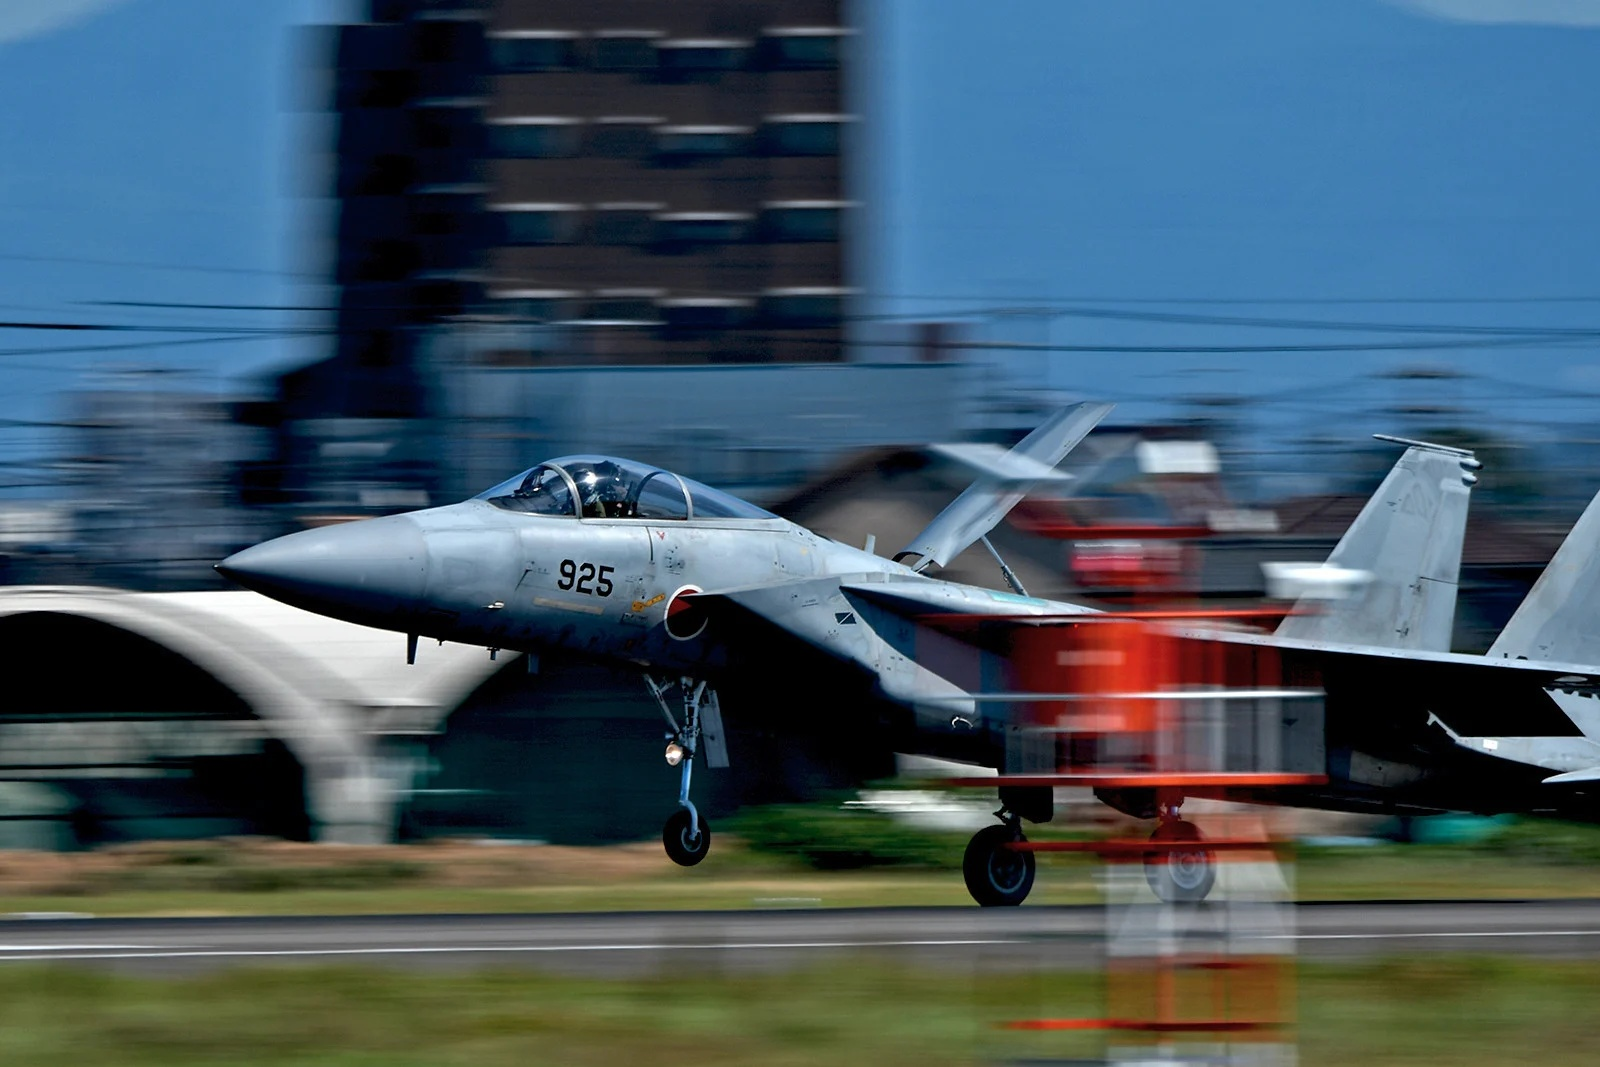airplane: (212, 401, 1600, 905)
